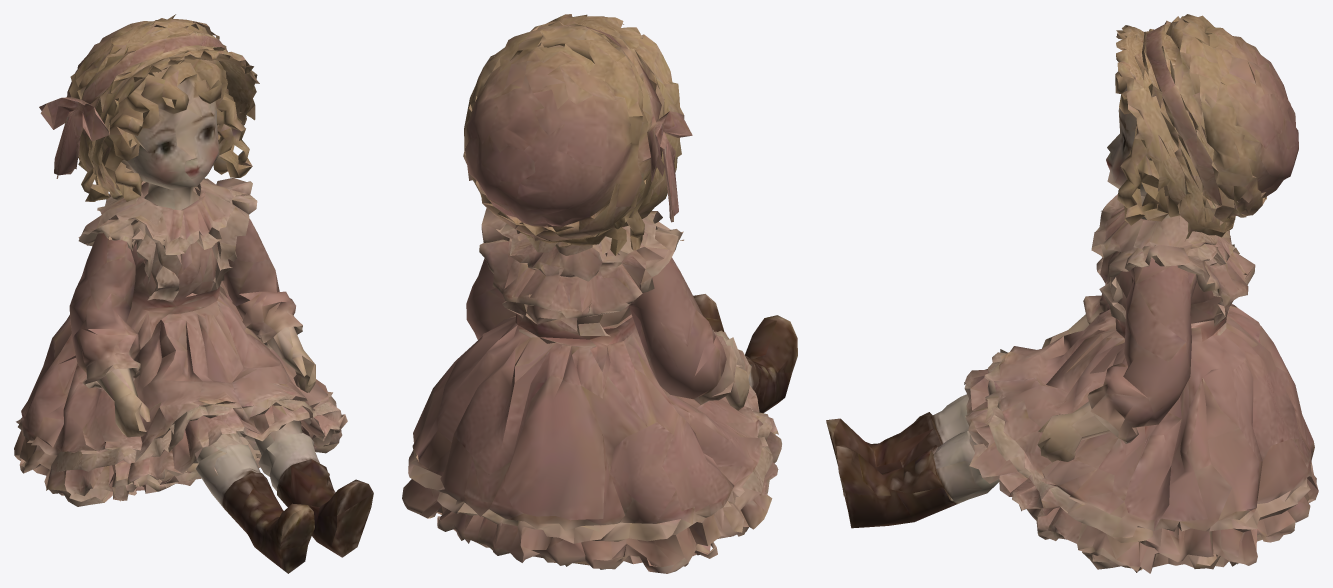
File: up_doll_bonnet.glb
3 renders of one model, left to right at view 1: azimuth 30°, elevation 25°; view 2: azimuth 150°, elevation 25°; view 3: azimuth 270°, elevation 25°, orthographic. The views are drawn at different scales.
Parts seen in each view (by area): view 1: up_doll_bonnet; view 2: up_doll_bonnet; view 3: up_doll_bonnet.
Part boxes in pixels (x1=…): up_doll_bonnet: x1=14, y1=14, x2=373, y2=573; up_doll_bonnet: x1=402, y1=14, x2=797, y2=573; up_doll_bonnet: x1=826, y1=14, x2=1318, y2=573.
Size of the model in its own units: 0.3278 by 0.48 by 0.4399.
1 material, 1 textured.
